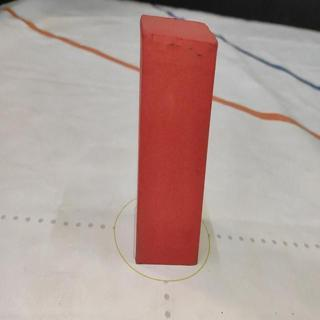redbox: (133, 15, 218, 265)
